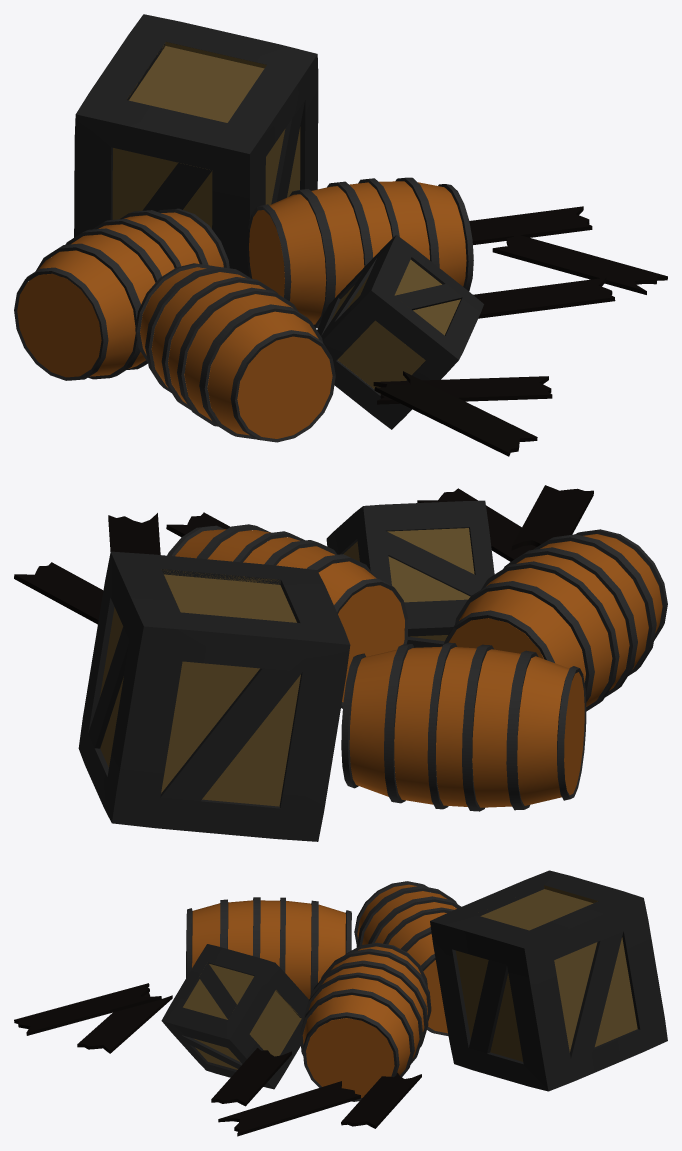
Rendered from Debris.FBX.
The picture shows the model from 3 angles, top to bottom: view 1: azimuth 30°, elevation 25°; view 2: azimuth 150°, elevation 25°; view 3: azimuth 270°, elevation 25°; orthographic projection. The views are drawn at different scales.
Visible parts, largest first — view 1: Crate001, Barrel001, Barrel002, Barrel, Crate, Driftwood001, Driftwood002, Driftwood003, Driftwood004, Driftwood; view 2: Crate001, Barrel002, Barrel001, Crate, Barrel, Driftwood001, Driftwood004, Driftwood002, Driftwood, Driftwood003; view 3: Crate001, Barrel, Crate, Barrel001, Barrel002, Driftwood002, Driftwood001, Driftwood003, Driftwood, Driftwood004.
Boxes of the visible parts, x1,y1,x2,y2 form: Crate001: (74, 14, 318, 277); Barrel001: (135, 263, 335, 442); Barrel002: (14, 208, 229, 380); Barrel: (247, 177, 473, 328); Crate: (317, 235, 483, 429); Driftwood001: (374, 371, 537, 456); Driftwood002: (492, 233, 667, 294); Driftwood003: (473, 277, 615, 318); Driftwood004: (469, 206, 592, 244); Driftwood: (373, 376, 552, 404); Crate001: (78, 551, 350, 841); Barrel002: (341, 642, 586, 811); Barrel001: (444, 529, 667, 711); Crate: (326, 500, 494, 647); Barrel: (167, 524, 408, 708); Driftwood001: (511, 485, 593, 550); Driftwood004: (14, 562, 103, 624); Driftwood002: (108, 513, 160, 554); Driftwood: (417, 488, 536, 561); Driftwood003: (166, 512, 230, 536); Crate001: (430, 870, 667, 1091); Barrel: (300, 942, 431, 1101); Crate: (161, 944, 308, 1089); Barrel001: (186, 897, 351, 999); Barrel002: (354, 881, 461, 1036); Driftwood002: (218, 1081, 360, 1136); Driftwood001: (14, 983, 161, 1035); Driftwood003: (211, 1048, 291, 1106); Driftwood: (77, 992, 172, 1053); Driftwood004: (341, 1072, 421, 1128).
Size of the model in its own units: 278 by 109 by 361.
